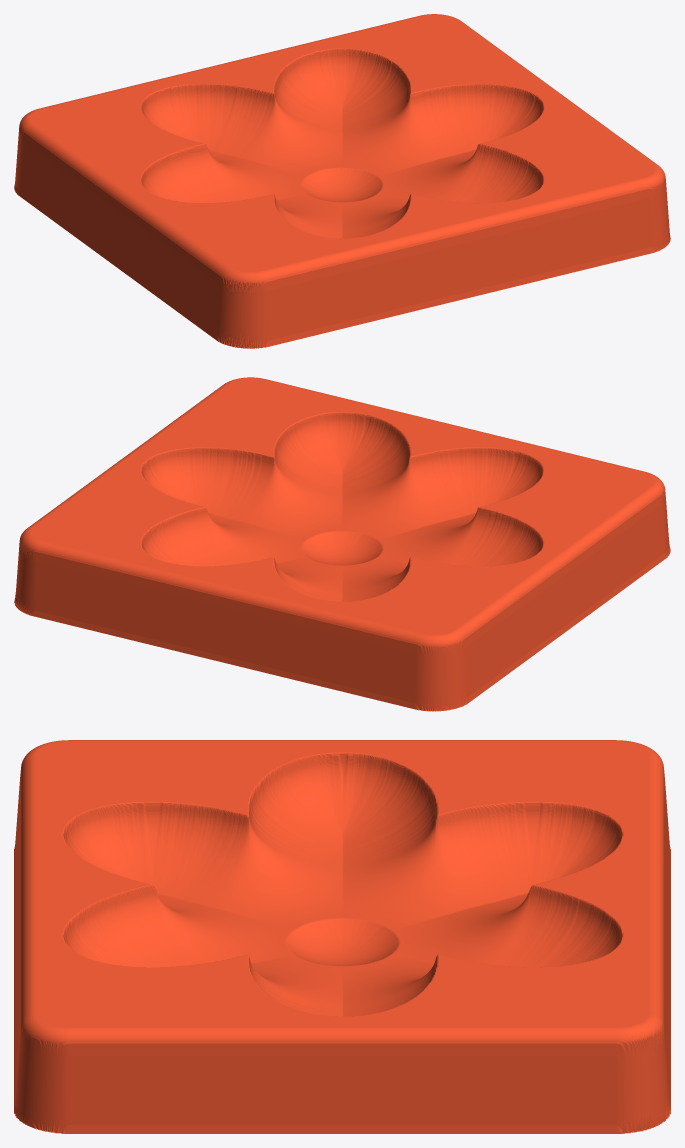
File: mold.glb
3 renders of one model, top to bottom at view 1: azimuth 30°, elevation 25°; view 2: azimuth 150°, elevation 25°; view 3: azimuth 270°, elevation 25°, orthographic. The views are drawn at different scales.
Parts seen in each view (by area): view 1: geometry_0; view 2: geometry_0; view 3: geometry_0.
Part boxes in pixels (x1,y1,x2,y2): geometry_0: (14,14,670,348); geometry_0: (14,377,670,711); geometry_0: (14,740,670,1133).
Size of the model in its own units: 0.1178 by 0.0175 by 0.1074.
